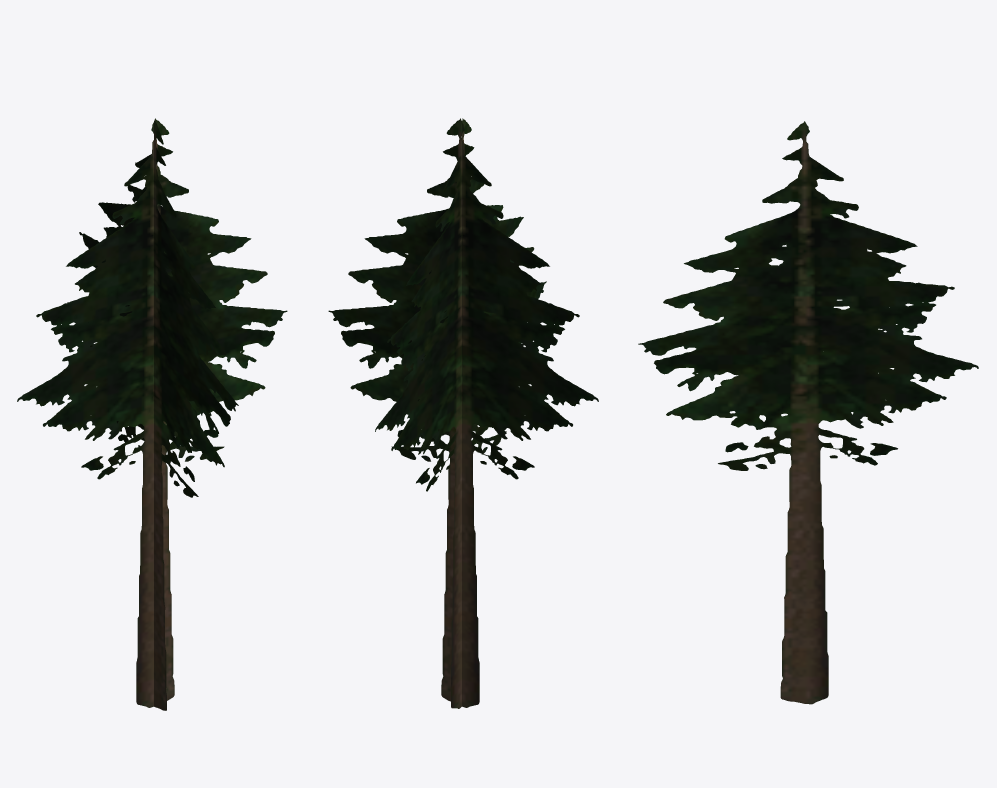
The model's file is ever_pinetree_medium_l3.fbx.
3 views of the same model, side by side, from view 1: azimuth 30°, elevation 25°; view 2: azimuth 150°, elevation 25°; view 3: azimuth 270°, elevation 25° (orthographic).
Parts seen in each view (by area): view 1: mesh_node; view 2: mesh_node; view 3: mesh_node.
Part boxes in pixels (box(x1,y1,x2,y2)): mesh_node: box(17, 118, 287, 710); mesh_node: box(328, 118, 598, 708); mesh_node: box(638, 121, 978, 704).
Bounding box in the file's own units: 6.15 × 13.25 × 6.77.
1 material, 1 textured.
